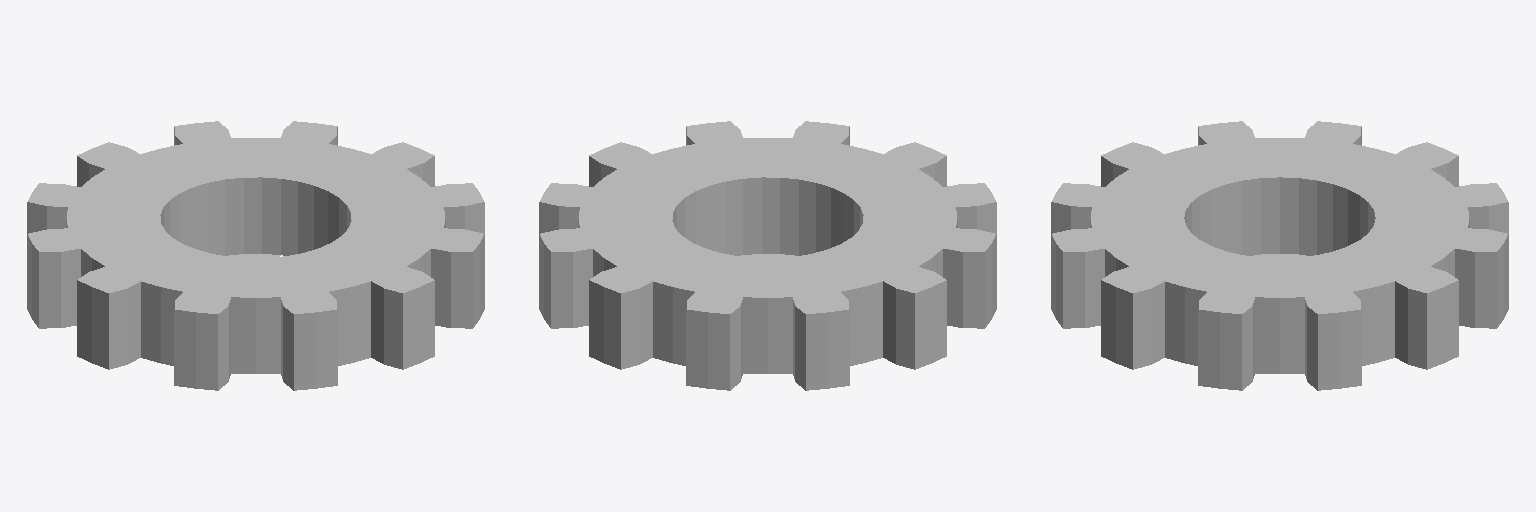
Rendered from gear.obj.
The picture shows the model from 3 angles: view 1: azimuth 30°, elevation 25°; view 2: azimuth 150°, elevation 25°; view 3: azimuth 270°, elevation 25°; orthographic projection.
Visible parts, largest first — view 1: Gear; view 2: Gear; view 3: Gear.
Boxes of the visible parts, x1=… form: Gear: x1=27, y1=121, x2=484, y2=390; Gear: x1=539, y1=121, x2=996, y2=390; Gear: x1=1051, y1=121, x2=1508, y2=390.
Size of the model in its own units: 2.17 by 0.4 by 2.17.